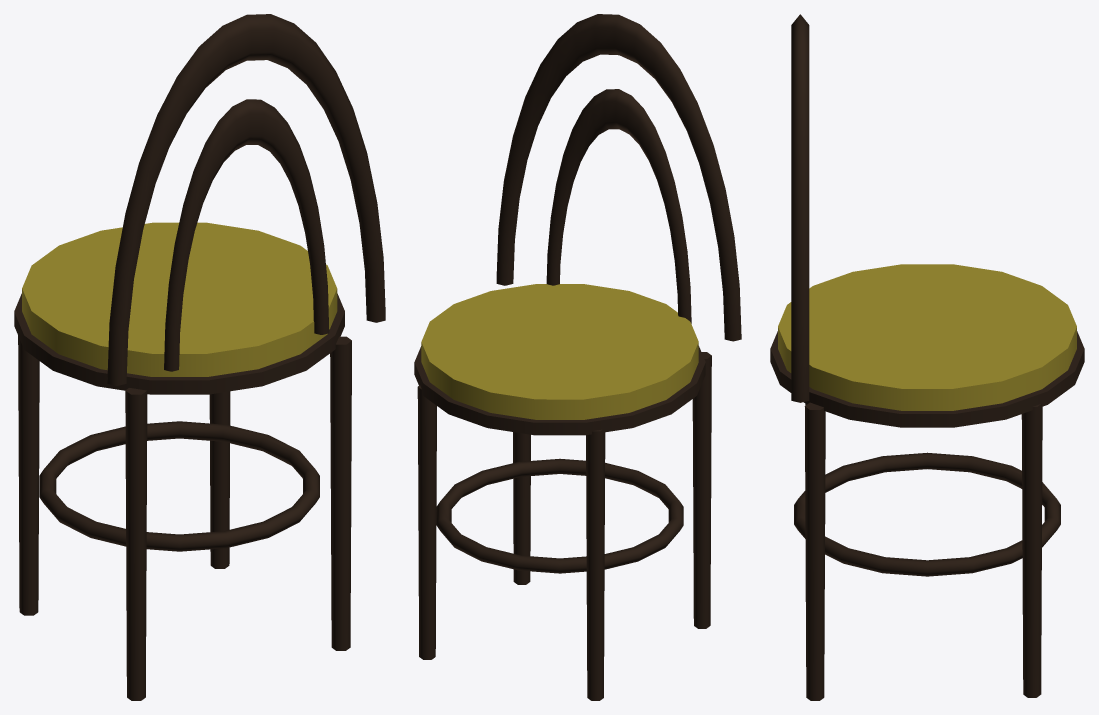
File: chair-bentwood.obj
The picture shows the model from 3 angles, left to right: view 1: azimuth 30°, elevation 25°; view 2: azimuth 150°, elevation 25°; view 3: azimuth 270°, elevation 25°; orthographic projection. The views are drawn at different scales.
Visible parts, largest first — view 1: chair-bentwood_0, chair-bentwood_7, chair-bentwood_8, chair-bentwood_6, chair-bentwood_4, chair-bentwood_5, chair-bentwood_1, chair-bentwood_2, chair-bentwood_3; view 2: chair-bentwood_0, chair-bentwood_7, chair-bentwood_8, chair-bentwood_6, chair-bentwood_1, chair-bentwood_2, chair-bentwood_3, chair-bentwood_4, chair-bentwood_5; view 3: chair-bentwood_0, chair-bentwood_6, chair-bentwood_7, chair-bentwood_5, chair-bentwood_3, chair-bentwood_1.
Boxes of the visible parts, x1,y1,x2,y2 form: chair-bentwood_0: (22,222,337,376); chair-bentwood_7: (107,14,385,385); chair-bentwood_8: (164,99,329,371); chair-bentwood_6: (39,421,319,551); chair-bentwood_4: (125,388,147,700); chair-bentwood_5: (330,336,351,650); chair-bentwood_1: (14,293,344,394); chair-bentwood_2: (18,335,39,615); chair-bentwood_3: (209,391,230,568); chair-bentwood_0: (421,284,698,419); chair-bentwood_7: (496,14,741,341); chair-bentwood_8: (546,89,691,323); chair-bentwood_6: (436,458,683,573); chair-bentwood_1: (414,346,705,435); chair-bentwood_2: (586,429,605,700); chair-bentwood_3: (417,385,436,659); chair-bentwood_4: (692,352,711,628); chair-bentwood_5: (513,432,530,584); chair-bentwood_0: (778,264,1076,410); chair-bentwood_6: (794,452,1060,576); chair-bentwood_7: (791,14,809,402); chair-bentwood_5: (804,402,825,700); chair-bentwood_3: (1021,403,1042,697); chair-bentwood_1: (770,331,1084,427).
Size of the model in its own units: 0.4136 by 0.9292 by 0.42.
